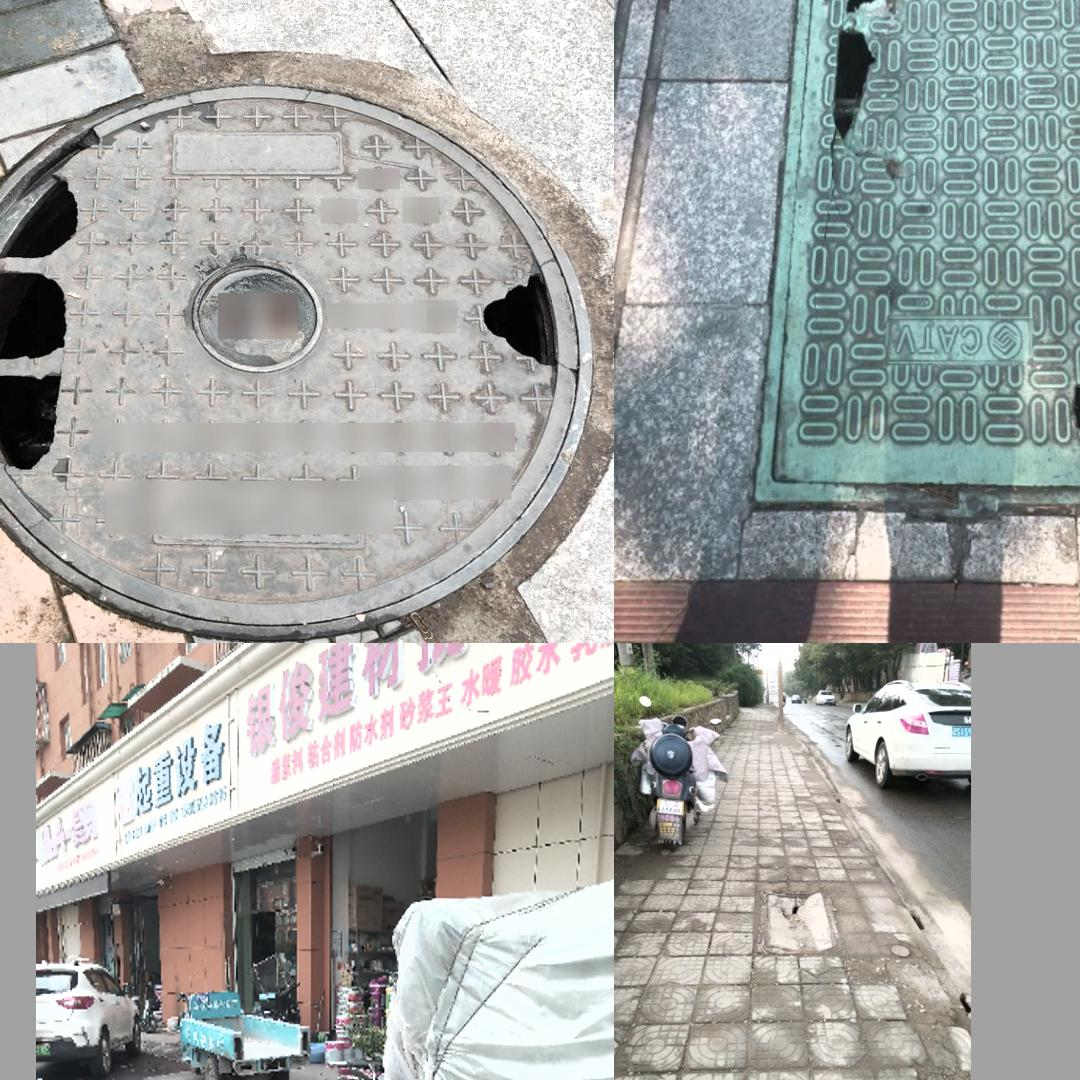broke: (0, 120, 581, 622), (752, 0, 1080, 508), (755, 889, 838, 953)
